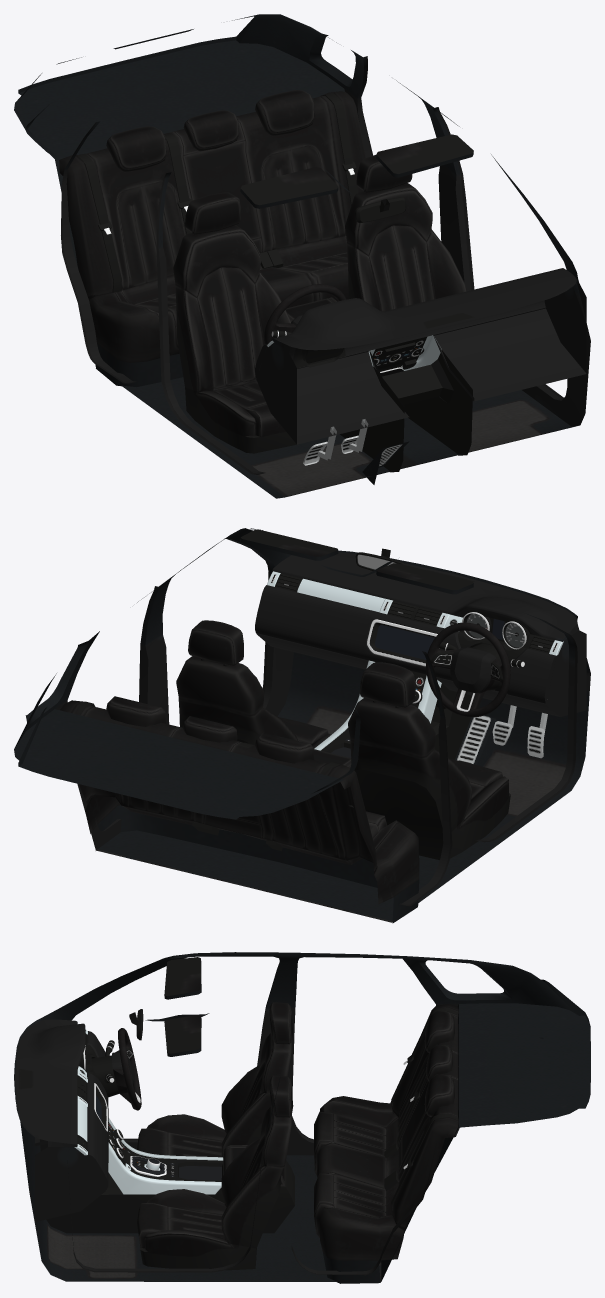
The model's file is RealisticCar01_RightHanded_Interior_Complete.FBX.
3 views of the same model, one above another, from view 1: azimuth 30°, elevation 25°; view 2: azimuth 150°, elevation 25°; view 3: azimuth 270°, elevation 25° (orthographic). The views are drawn at different scales.
Visible parts, largest first — view 1: Car01_Interior_LOD0, Car01_Interior_SteeringWheel_LOD0; view 2: Car01_Interior_LOD0, Car01_Interior_SteeringWheel_LOD0; view 3: Car01_Interior_LOD0, Car01_Interior_SteeringWheel_LOD0.
Boxes of the visible parts, x1,y1,x2,y2 form: Car01_Interior_LOD0: (14, 14, 590, 498); Car01_Interior_SteeringWheel_LOD0: (264, 284, 346, 344); Car01_Interior_LOD0: (14, 528, 590, 923); Car01_Interior_SteeringWheel_LOD0: (426, 622, 510, 717); Car01_Interior_LOD0: (14, 952, 590, 1283); Car01_Interior_SteeringWheel_LOD0: (112, 1028, 141, 1110).
Size of what is drawn, in the model's own units: 1.63 by 2.92 by 1.23.
